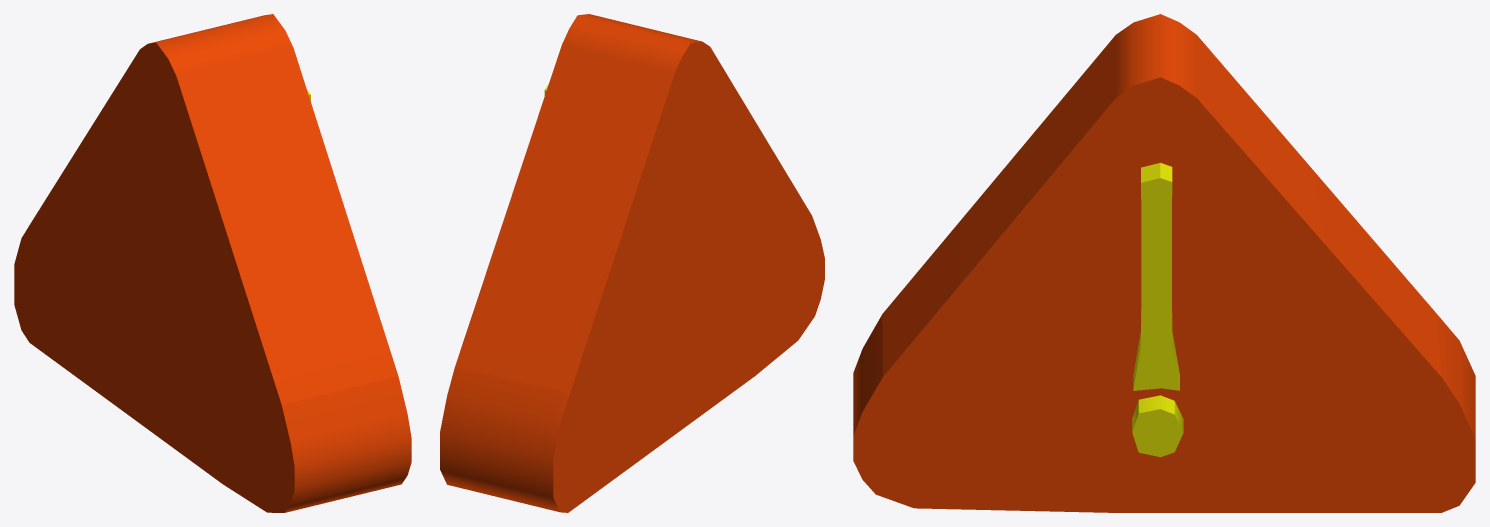
Rendered from advertencia.fbx.
The picture shows the model from 3 angles, left to right: view 1: azimuth 30°, elevation 25°; view 2: azimuth 150°, elevation 25°; view 3: azimuth 270°, elevation 25°; orthographic projection. The views are drawn at different scales.
Parts seen in each view (by area): view 1: pCube30; view 2: pCube30; view 3: pCube30.
Boxes of the visible parts, bbox=[...] form: pCube30: bbox=[14, 14, 411, 512]; pCube30: bbox=[440, 14, 824, 512]; pCube30: bbox=[853, 14, 1475, 512].
Size of the model in its own units: 2.03 by 5.21 by 6.75.
